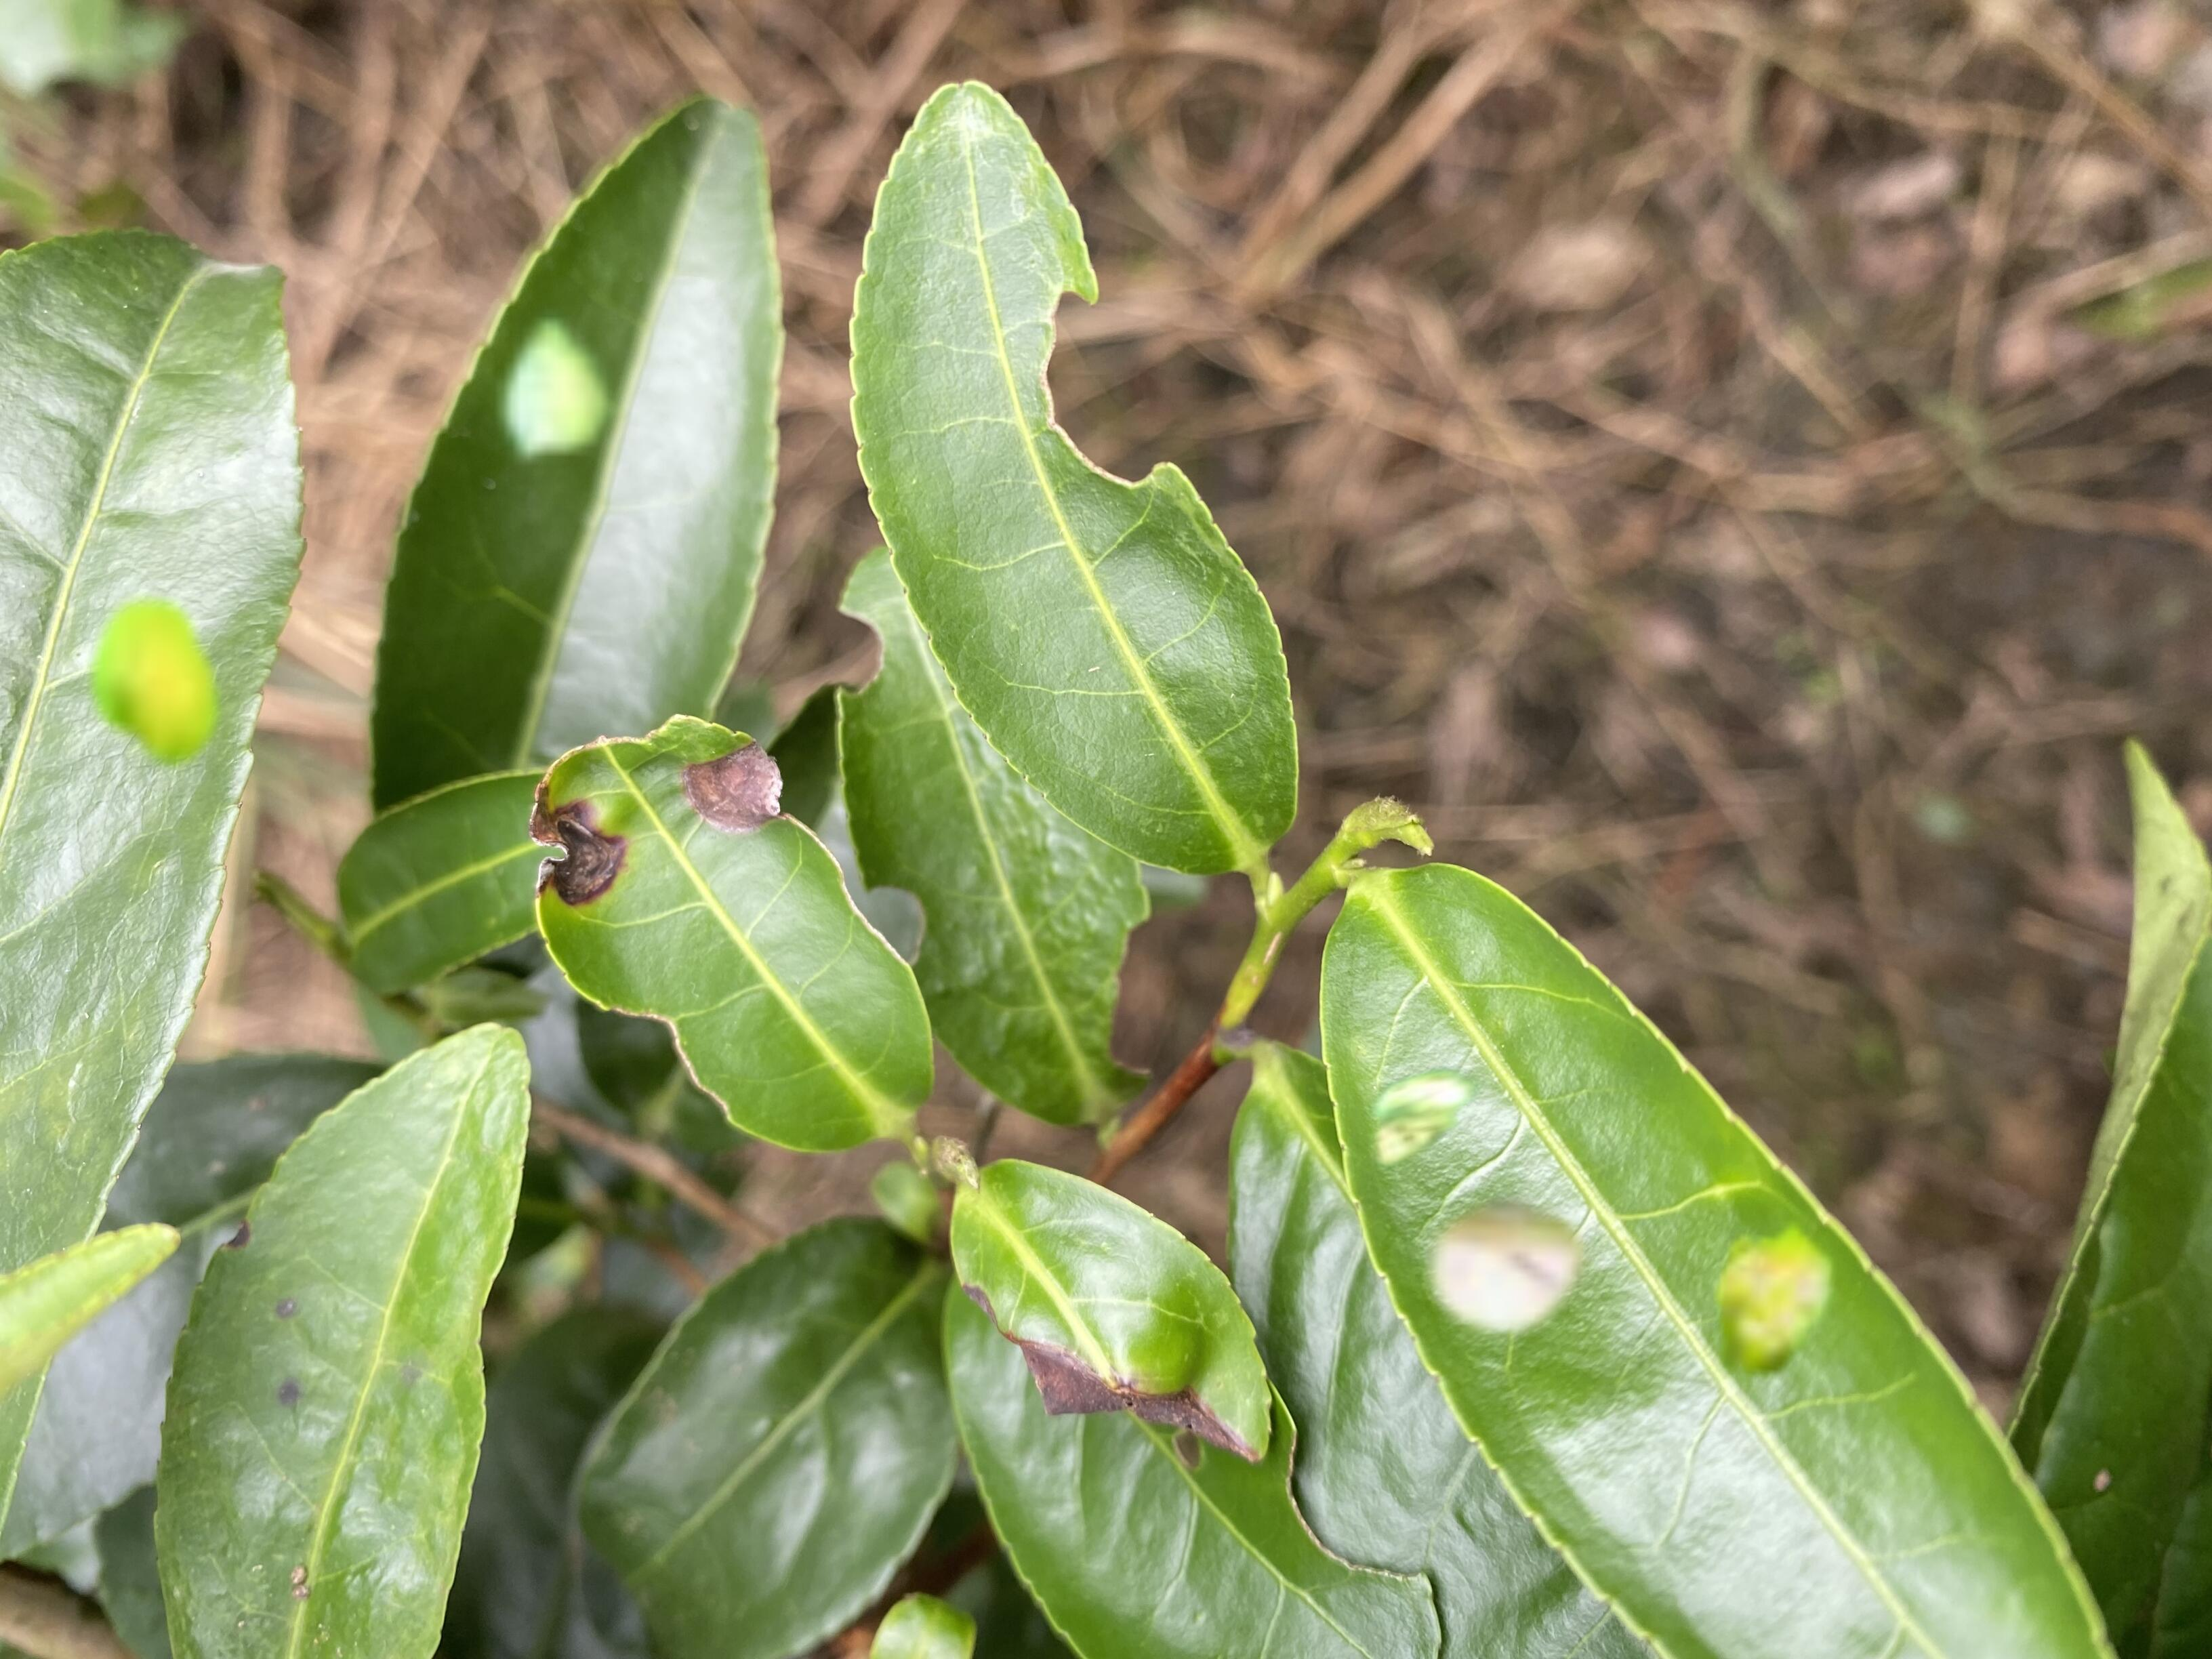chabing_high: (1320, 859, 2118, 1656)
chabing_low: (2, 228, 305, 1227), (364, 96, 779, 744)
chihuo_high: (833, 545, 1163, 1131)
chihuo_low: (846, 80, 1299, 873)
tanju_high: (526, 713, 935, 1154), (951, 1155, 1271, 1462)
tanju_low: (150, 1021, 538, 1656)
